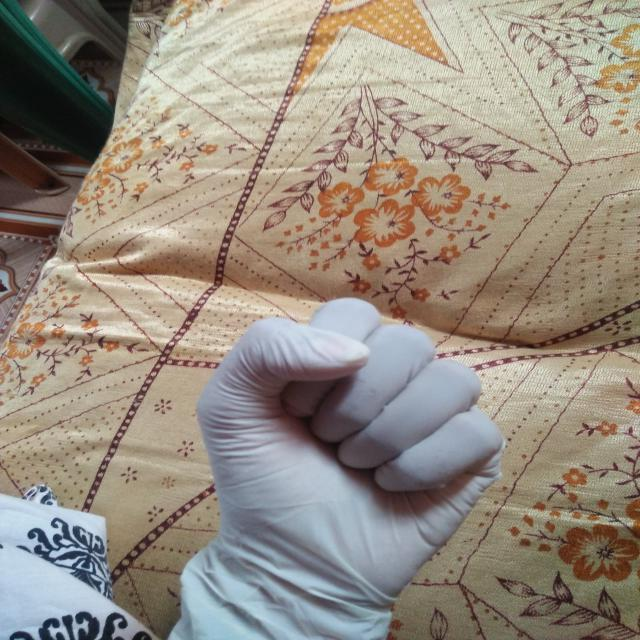gloved_hand: (162, 297, 516, 637)
